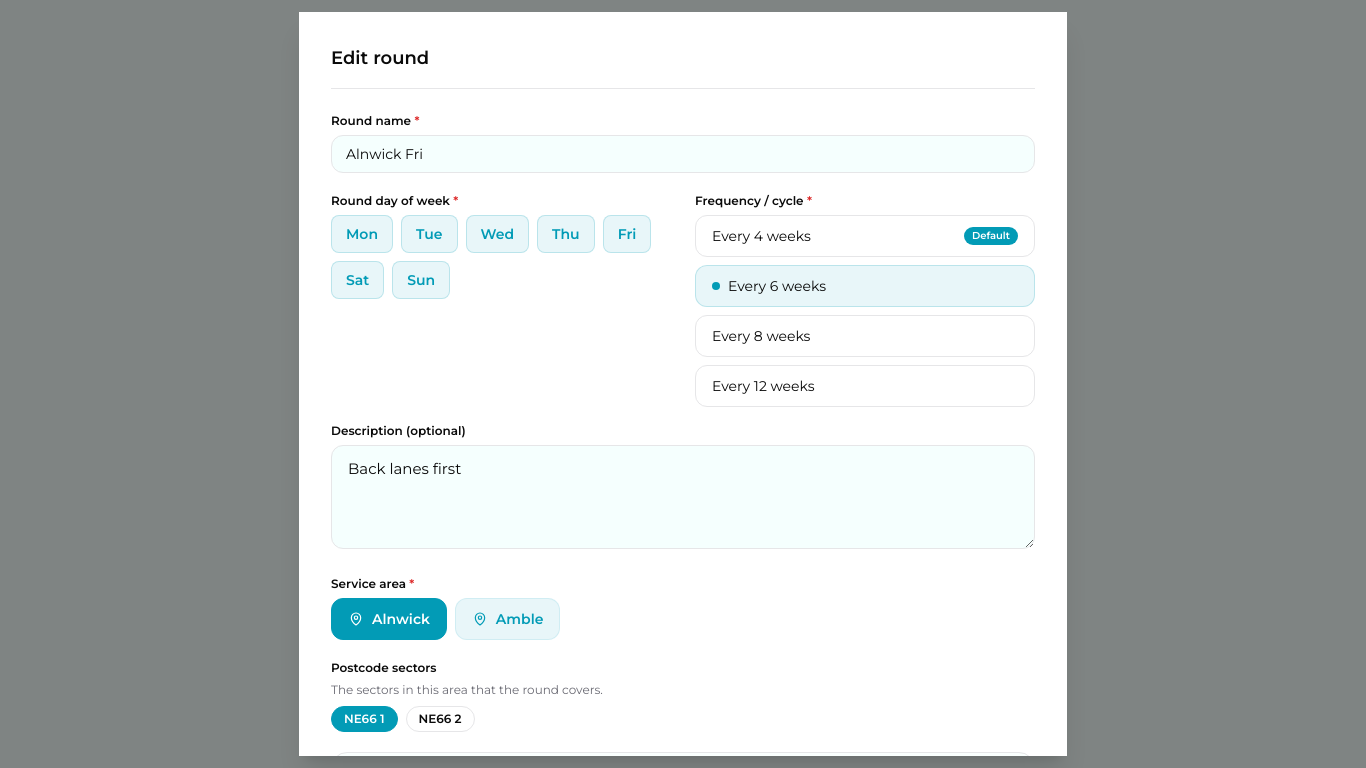
Test case: Edit round › asks for a day when the round has none
Type "x" into the field showing "Alnwick Fri" at x=683, y=154, box top-left (331, 135), bottom-right (1035, 173)
(page scrolled)
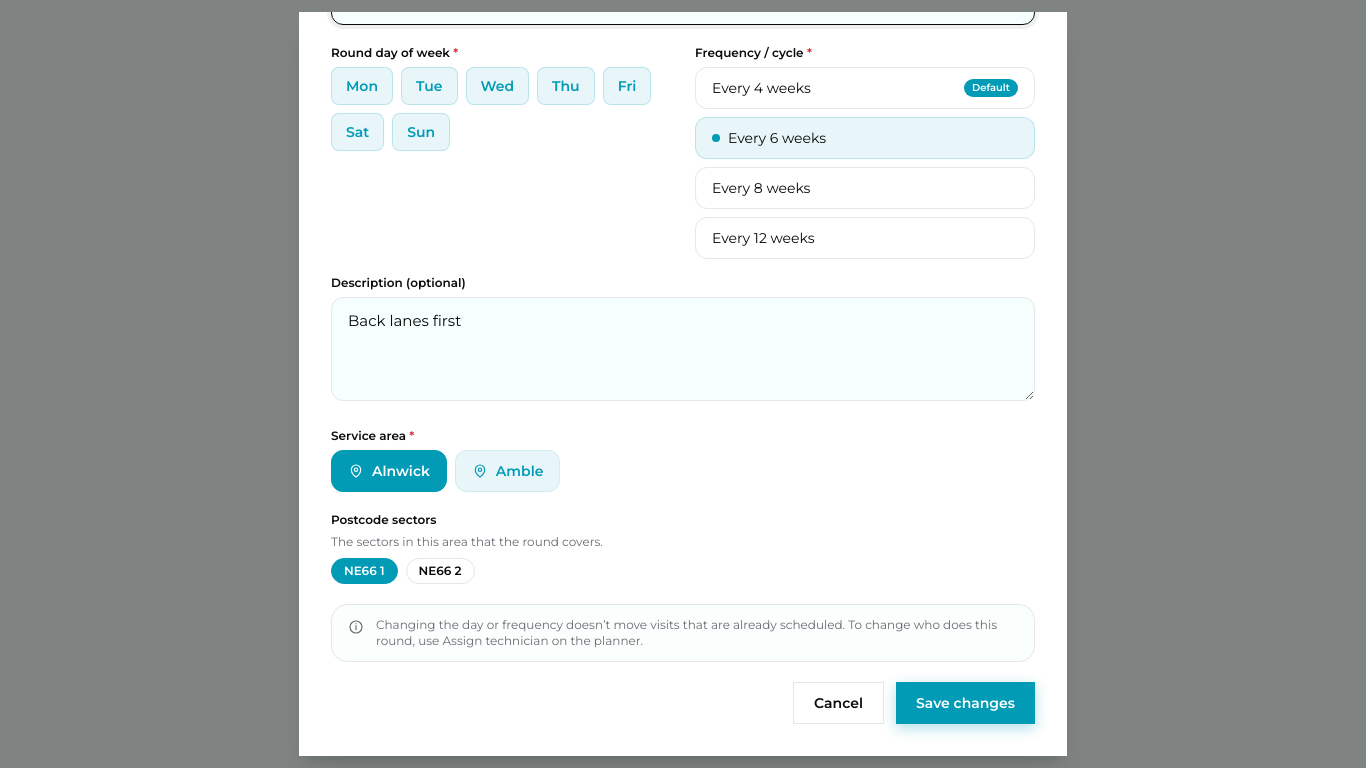
Click the button "Save changes" at x=966, y=703, box top-left (896, 682), bottom-right (1035, 724)
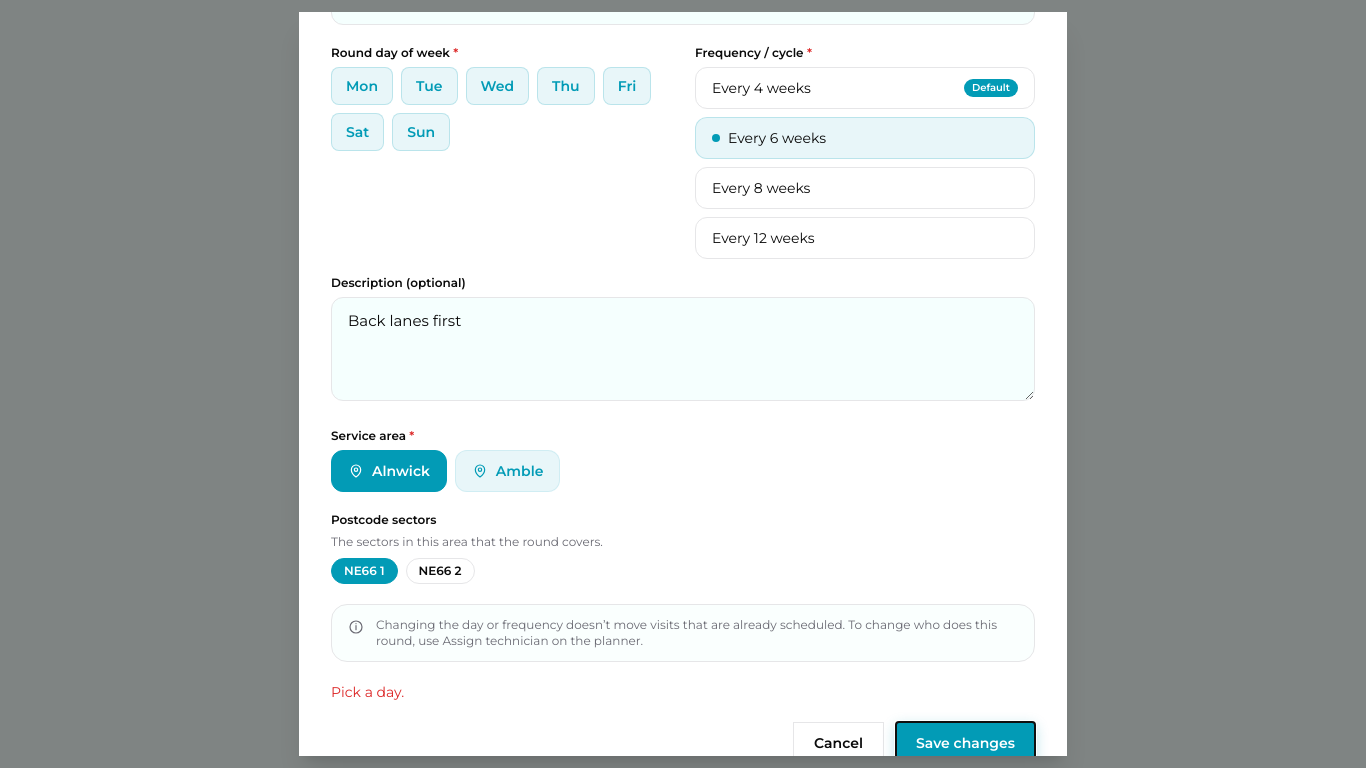
Expected: the message reads "Pick a day.", top-left (331, 683), bottom-right (404, 701)
